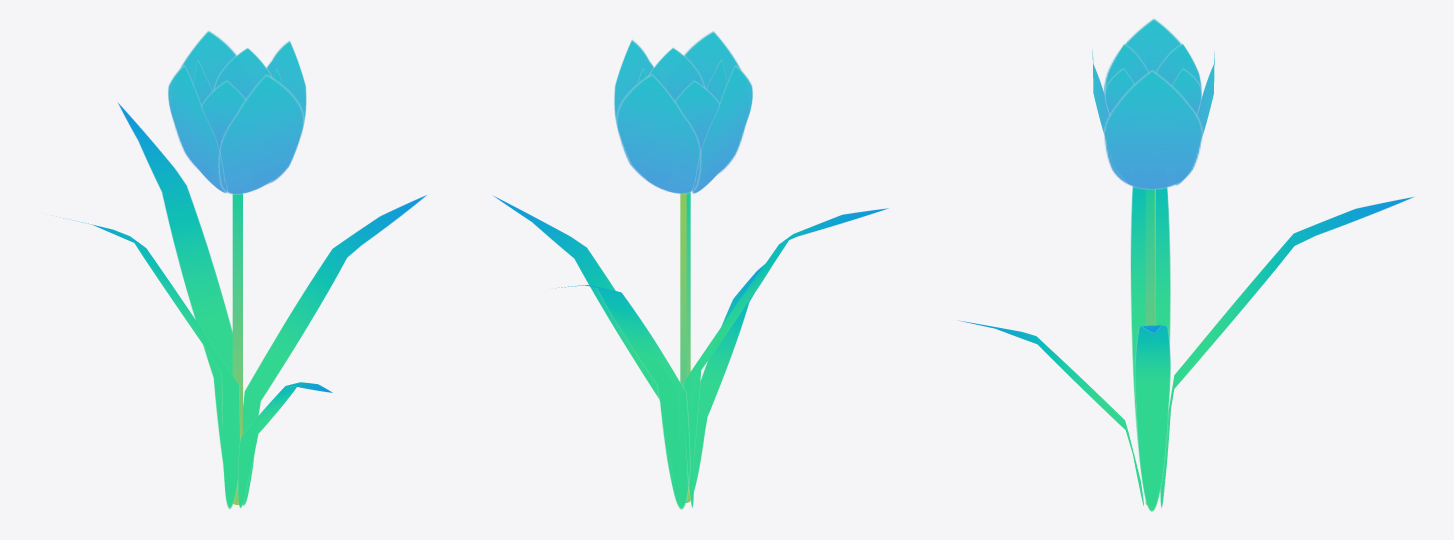
The model's file is Flowers_n02_18.glb.
The picture shows the model from 3 angles, left to right: view 1: azimuth 30°, elevation 25°; view 2: azimuth 150°, elevation 25°; view 3: azimuth 270°, elevation 25°; orthographic projection. The views are drawn at different scales.
Visible parts, largest first — view 1: polySurface301; view 2: polySurface301; view 3: polySurface301.
Boxes of the visible parts, box(x1,y1,x2,y2) form: polySurface301: box(53, 30, 427, 509); polySurface301: box(492, 31, 889, 509); polySurface301: box(958, 18, 1415, 511).
Size of the model in its own units: 0.3979 by 0.4164 by 0.3883.
1 material, 1 textured.
